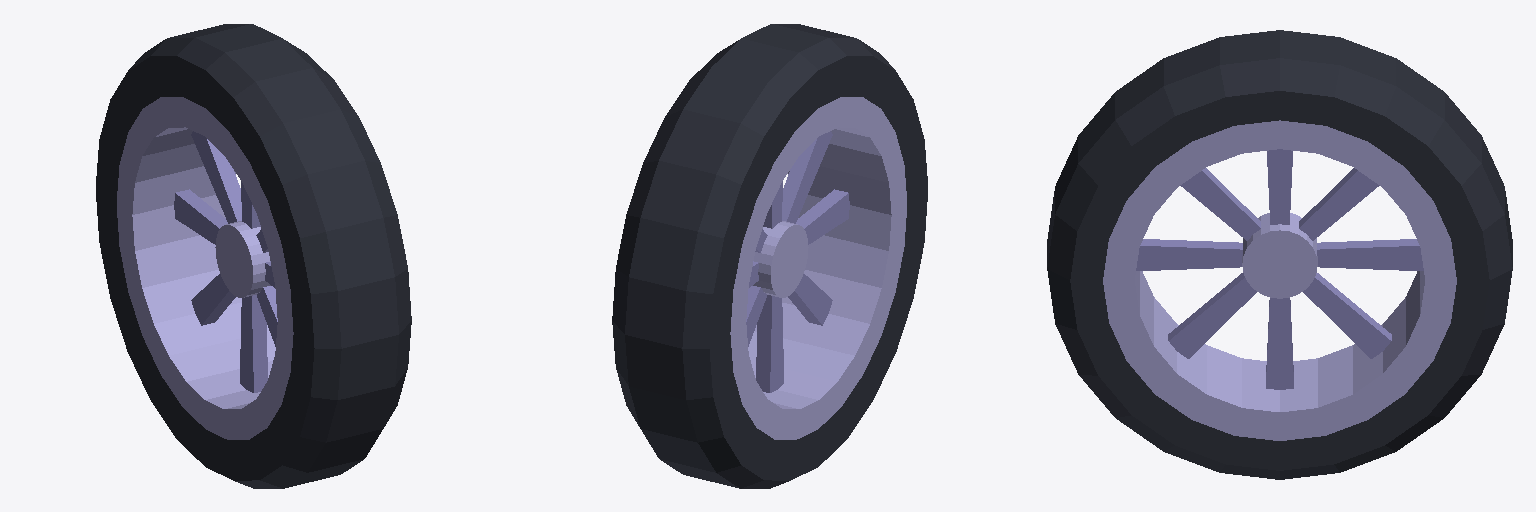
File: Wheel.obj
3 views of the same model, side by side, from view 1: azimuth 30°, elevation 25°; view 2: azimuth 150°, elevation 25°; view 3: azimuth 270°, elevation 25° (orthographic).
Parts seen in each view (by area): view 1: mergedBlocks; view 2: mergedBlocks; view 3: mergedBlocks.
Boxes of the visible parts, <box> form: mergedBlocks: <box>96,24,411,488</box>; mergedBlocks: <box>612,24,927,488</box>; mergedBlocks: <box>1047,30,1512,479</box>.
Size of the model in its own units: 0.1556 by 0.6161 by 0.6161.